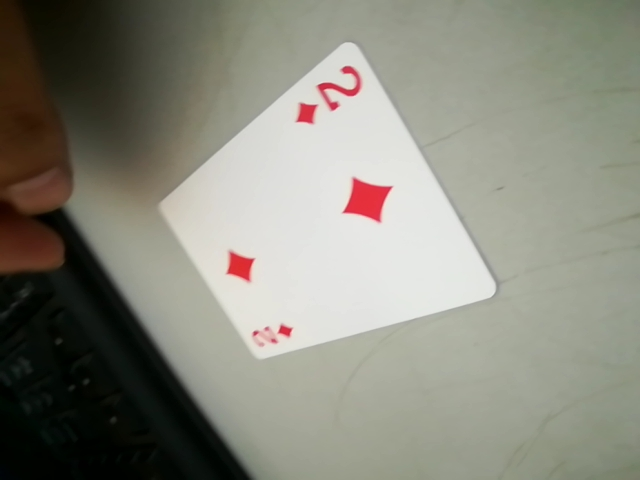fk 2: (289, 56, 370, 129), (245, 315, 302, 359)
